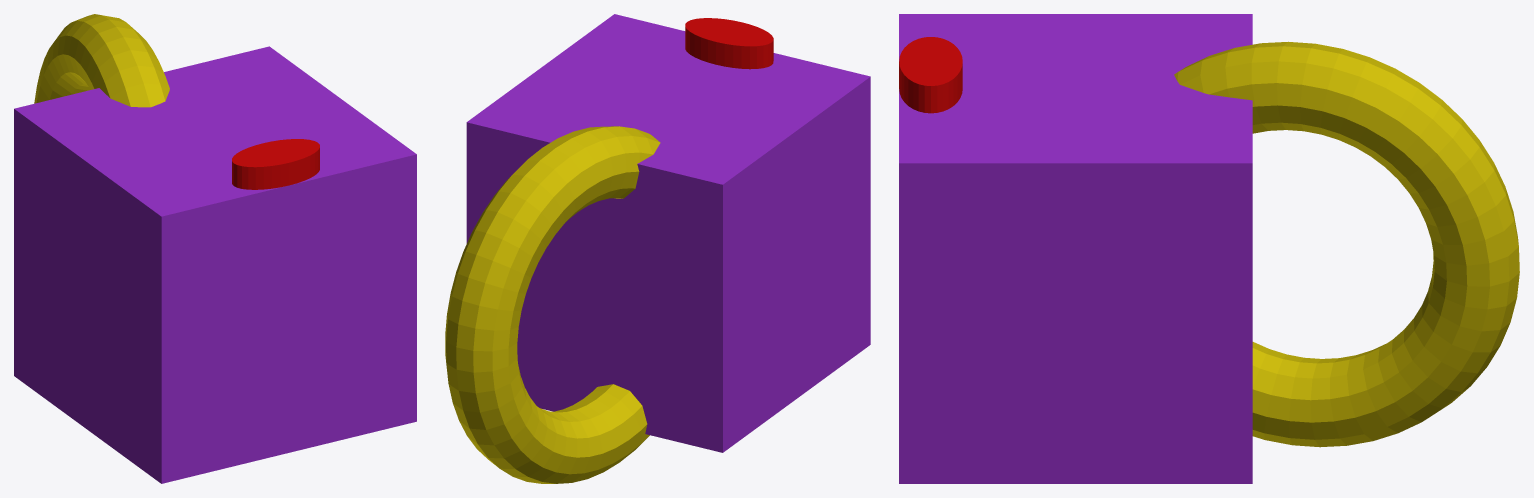
The model's file is sgkeyhf.obj.
3 renders of one model, left to right at view 1: azimuth 30°, elevation 25°; view 2: azimuth 150°, elevation 25°; view 3: azimuth 270°, elevation 25°, orthographic. The views are drawn at different scales.
Parts seen in each view (by area): view 1: Cube_Cube.001, Torus, Cylinder; view 2: Cube_Cube.001, Torus, Cylinder; view 3: Cube_Cube.001, Torus, Cylinder.
Part boxes in pixels (x1,y1,x2,y2): Cube_Cube.001: [14, 46, 416, 483]; Torus: [34, 14, 169, 107]; Cylinder: [232, 139, 319, 189]; Cube_Cube.001: [466, 14, 870, 452]; Torus: [445, 126, 660, 483]; Cylinder: [685, 18, 773, 69]; Cube_Cube.001: [899, 14, 1252, 483]; Torus: [1174, 41, 1519, 447]; Cylinder: [899, 37, 962, 113].
Size of the model in its own units: 2 by 2.5 by 3.51.
